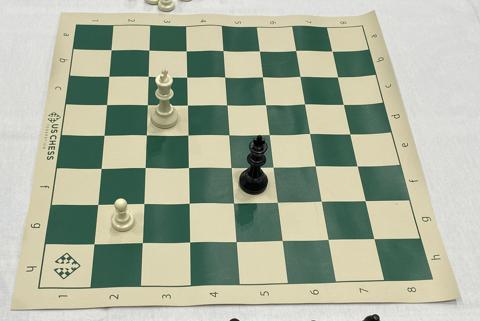xcorner: (327, 44, 338, 55), (291, 44, 302, 55), (255, 44, 266, 55), (218, 44, 229, 55), (181, 44, 192, 55), (144, 44, 155, 55), (107, 44, 118, 55), (333, 70, 344, 81), (296, 70, 307, 81), (258, 70, 269, 81), (220, 70, 231, 81), (182, 70, 193, 81), (143, 70, 154, 81), (104, 70, 115, 81), (340, 97, 351, 108), (301, 98, 312, 109), (261, 98, 272, 109), (222, 98, 233, 109), (182, 98, 193, 109), (142, 98, 153, 109), (102, 99, 113, 110), (346, 127, 357, 138), (306, 127, 317, 138), (265, 128, 276, 139), (224, 128, 235, 139), (183, 128, 194, 139), (141, 129, 152, 140), (99, 129, 110, 140), (354, 159, 365, 170), (312, 160, 323, 171), (269, 160, 280, 171), (226, 161, 237, 172), (183, 161, 194, 172), (140, 162, 151, 173), (96, 162, 107, 173), (362, 194, 373, 205), (318, 195, 329, 206), (274, 196, 285, 207), (229, 196, 240, 207), (184, 197, 195, 208), (138, 198, 149, 209), (92, 198, 103, 209), (370, 232, 381, 243), (325, 233, 336, 244), (278, 234, 289, 245), (232, 235, 243, 246), (184, 236, 195, 247), (137, 237, 148, 248), (89, 238, 100, 249)
